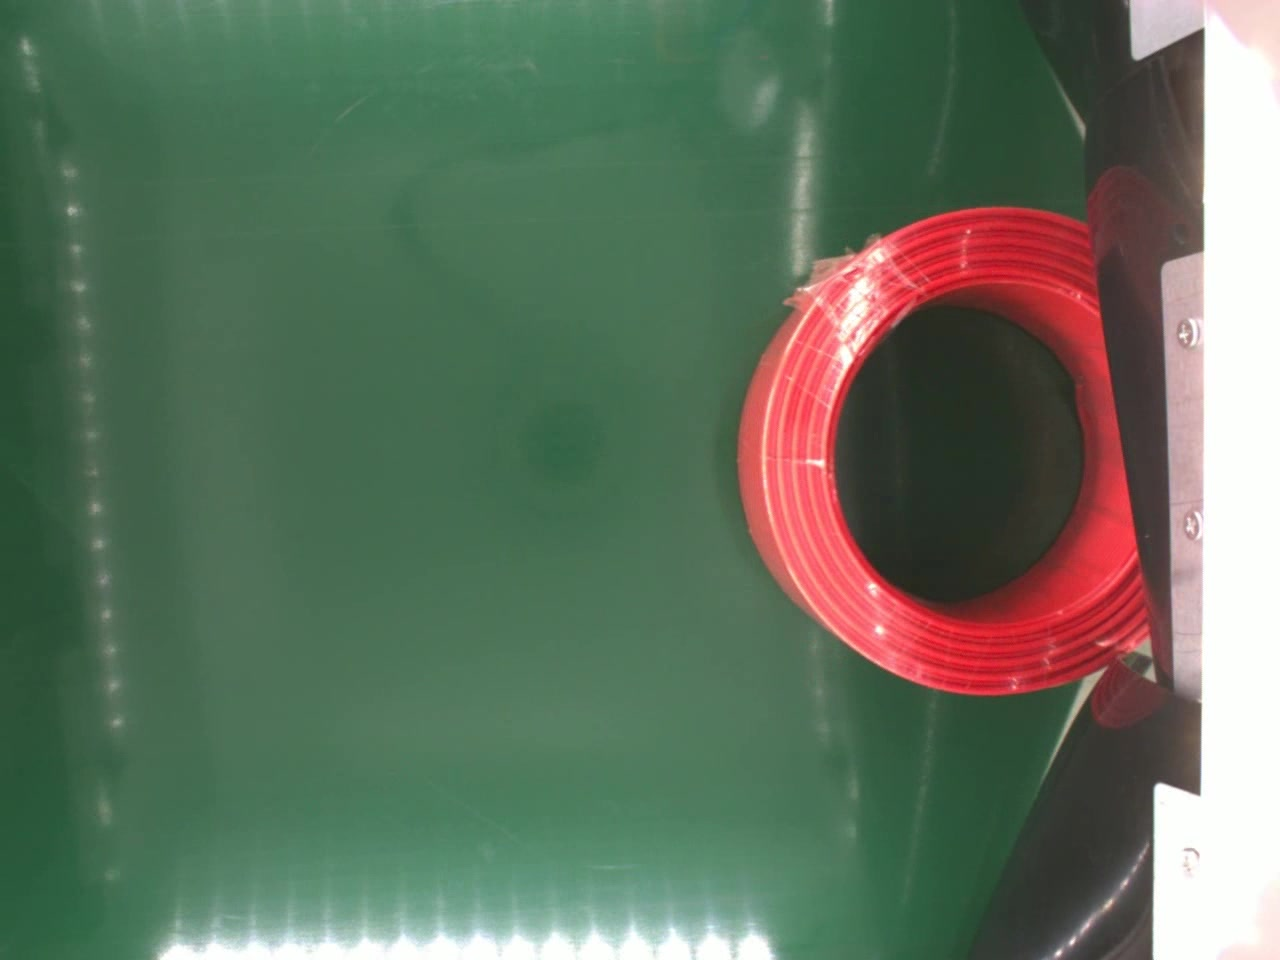red: (728, 202, 1151, 693)
